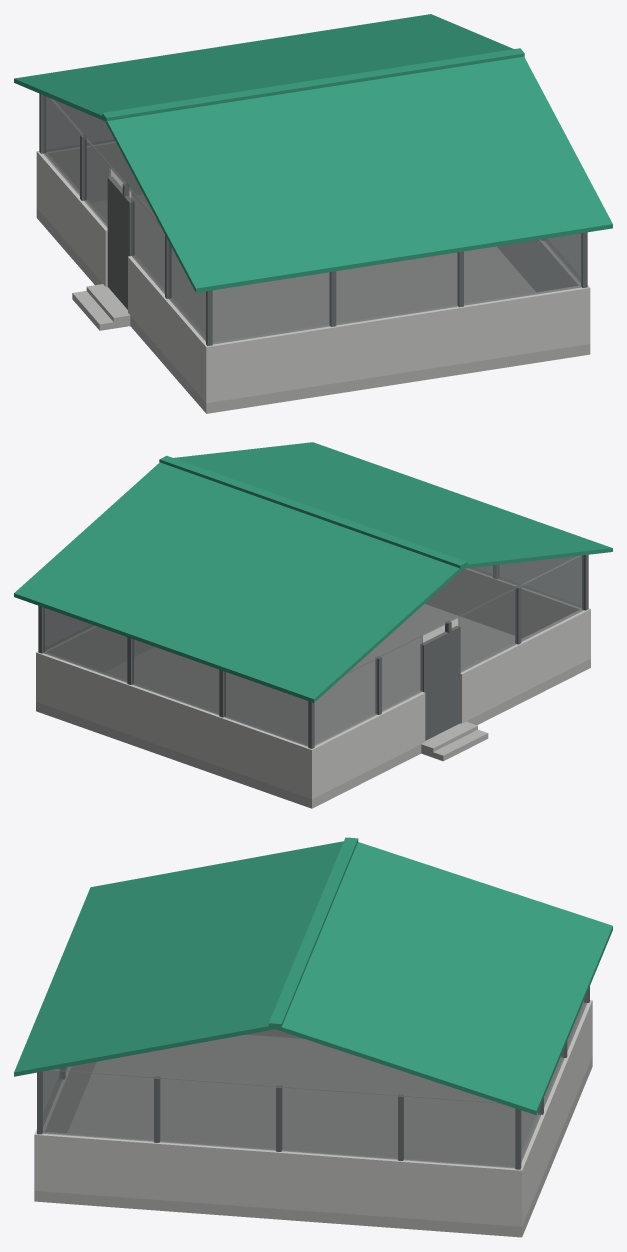
The model's file is rares_breeder_house.glb.
3 renders of one model, top to bottom at view 1: azimuth 30°, elevation 25°; view 2: azimuth 150°, elevation 25°; view 3: azimuth 270°, elevation 25°, orthographic. The views are drawn at different scales.
Visible parts, largest first — view 1: Breeder_Roof, Breeder_Slab, HW_NS_-4.1, Mesh_NS_-4.1, HW_W1, HW_W2, Breeder_RidgeCap, Mesh_W2, Mesh_W1, HW_NS_4.1, DoorFrame, HW_E (+5 smaller); view 2: Breeder_Roof, Breeder_Slab, HW_NS_4.1, Mesh_NS_4.1, Mesh_W1, HW_W1, HW_W2, Mesh_W2, Gable_W, HW_NS_-4.1, DoorFrame, Breeder_RidgeCap (+5 smaller); view 3: Breeder_Roof, Breeder_Slab, Mesh_E, HW_E, Gable_E, HW_NS_4.1, Breeder_RidgeCap, HW_NS_-4.1, Mesh_NS_4.1, Mesh_NS_-4.1.
Boxes of the visible parts, x1,y1,x2,y2 form: Breeder_Roof: [14, 14, 612, 292]; Breeder_Slab: [36, 195, 590, 413]; HW_NS_-4.1: [203, 285, 590, 403]; Mesh_NS_-4.1: [212, 233, 581, 344]; HW_W1: [128, 255, 205, 399]; HW_W2: [39, 154, 107, 286]; Breeder_RidgeCap: [102, 48, 524, 121]; Mesh_W2: [43, 95, 110, 227]; Mesh_W1: [131, 192, 205, 341]; HW_NS_4.1: [36, 141, 142, 210]; DoorFrame: [107, 176, 134, 309]; HW_E: [497, 240, 580, 291]; Breeder_Roof: [14, 442, 612, 702]; Breeder_Slab: [36, 604, 590, 808]; HW_NS_4.1: [36, 651, 316, 799]; Mesh_NS_4.1: [43, 607, 308, 746]; Mesh_W1: [458, 555, 583, 672]; HW_W1: [460, 610, 585, 723]; HW_W2: [314, 691, 425, 796]; Mesh_W2: [314, 635, 422, 745]; Gable_W: [345, 555, 580, 674]; HW_NS_-4.1: [425, 568, 590, 660]; DoorFrame: [420, 626, 460, 740]; Breeder_RidgeCap: [159, 455, 467, 569]; Breeder_Roof: [14, 841, 612, 1115]; Breeder_Slab: [34, 1035, 592, 1237]; Mesh_E: [42, 1070, 515, 1168]; HW_E: [43, 1132, 514, 1225]; Gable_E: [50, 1029, 499, 1103]; HW_NS_4.1: [513, 1000, 592, 1226]; Breeder_RidgeCap: [268, 837, 358, 1028]; HW_NS_-4.1: [34, 1062, 95, 1191]; Mesh_NS_4.1: [521, 992, 587, 1162]; Mesh_NS_-4.1: [43, 1067, 67, 1125].
Size of the model in its own units: 8.99 by 3.81 by 10.16.
